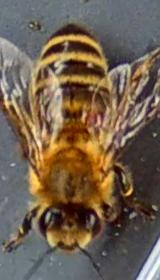varroa_mite: (82, 100, 105, 136)
